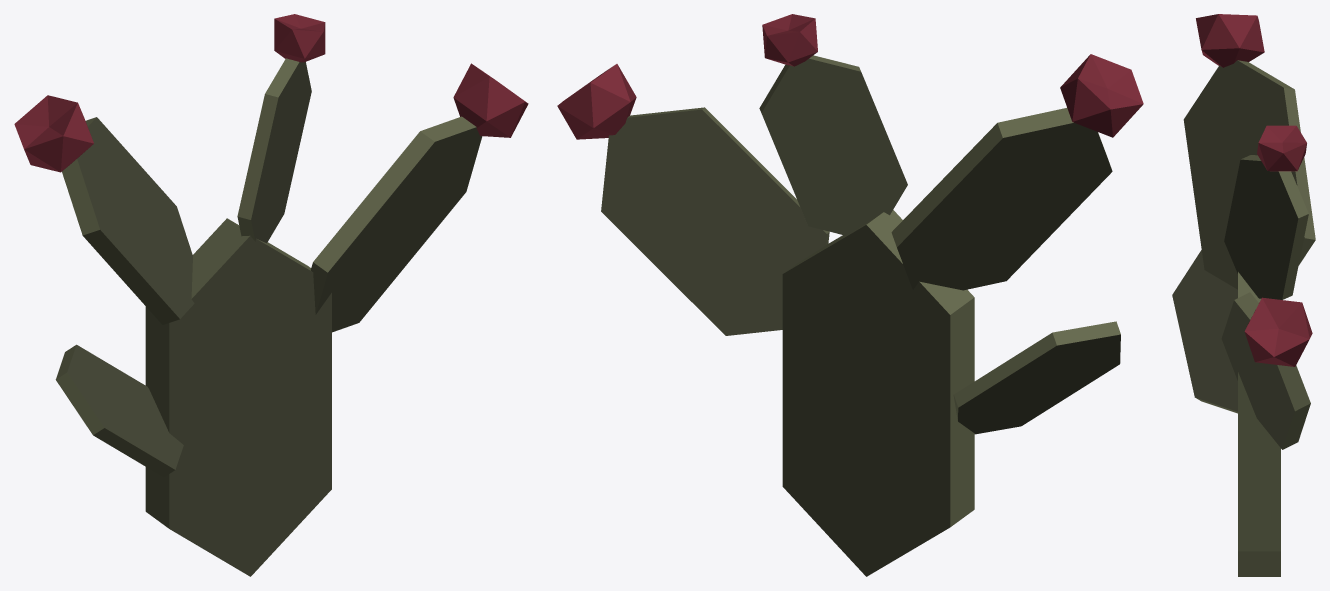
Rendered from TB_D_Env_CactusG_C.FBX.
The picture shows the model from 3 angles, left to right: view 1: azimuth 30°, elevation 25°; view 2: azimuth 150°, elevation 25°; view 3: azimuth 270°, elevation 25°; orthographic projection. The views are drawn at different scales.
Parts seen in each view (by area): view 1: TB_D_Env_CactusG_C; view 2: TB_D_Env_CactusG_C; view 3: TB_D_Env_CactusG_C.
Part boxes in pixels (bbox=[...]): TB_D_Env_CactusG_C: bbox=[14, 14, 528, 576]; TB_D_Env_CactusG_C: bbox=[557, 14, 1143, 576]; TB_D_Env_CactusG_C: bbox=[1172, 14, 1315, 576].
Bounding box in the file's own units: 1.09 × 1.03 × 0.2787.
